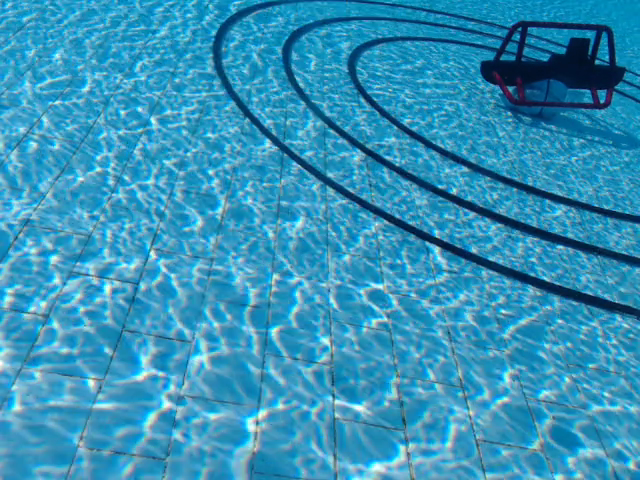submarine: (479, 21, 628, 112)
